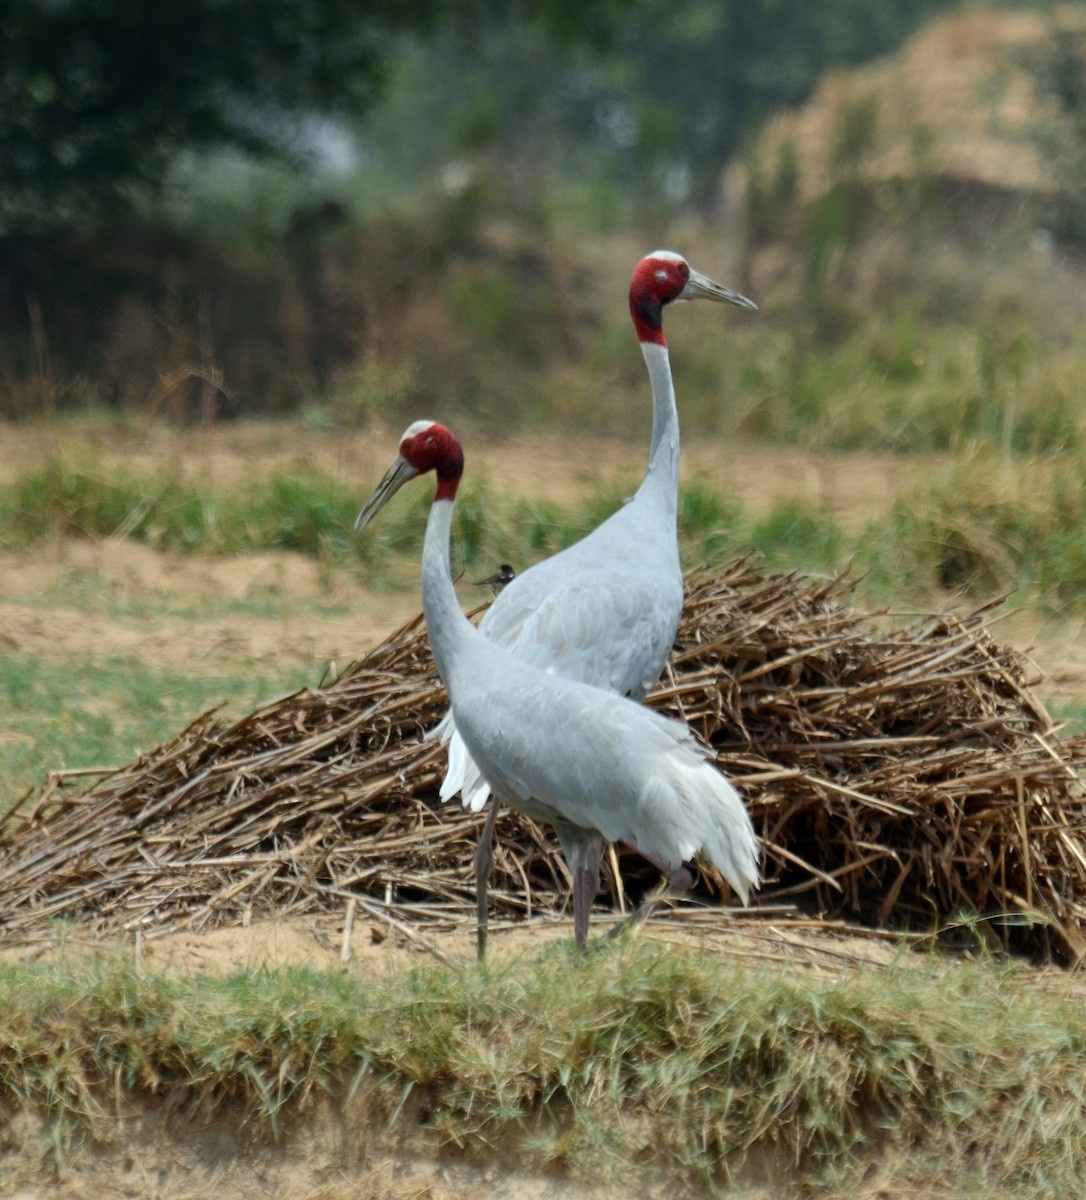crane: (348, 416, 769, 925), (496, 237, 773, 639)
